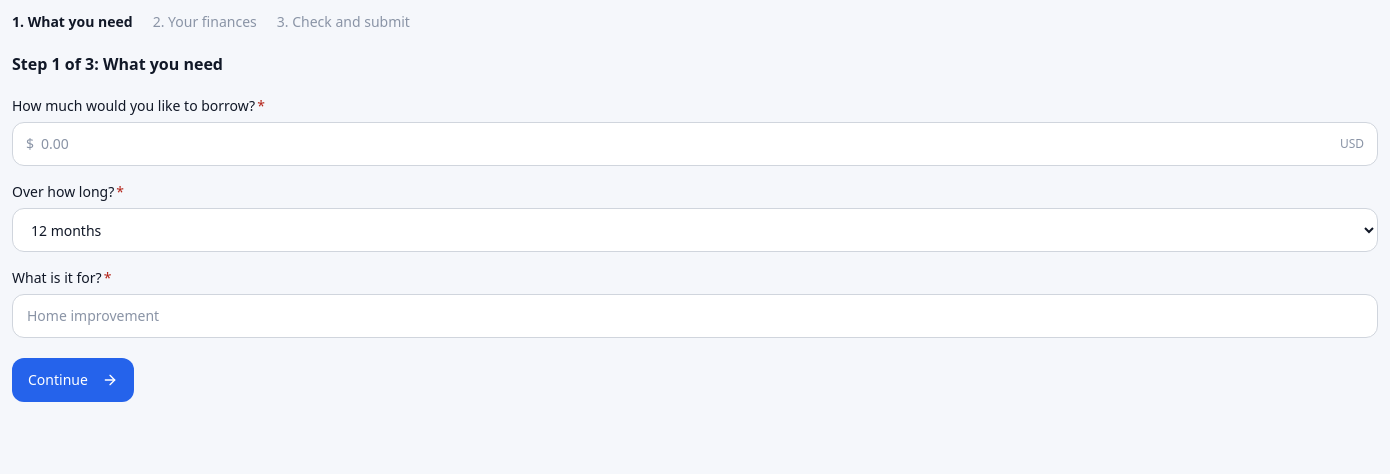
Test: applying in steps › catches a missing answer on its own step and sends nothing
Click the button "Continue" at (73, 380), box [12,358,134,402]
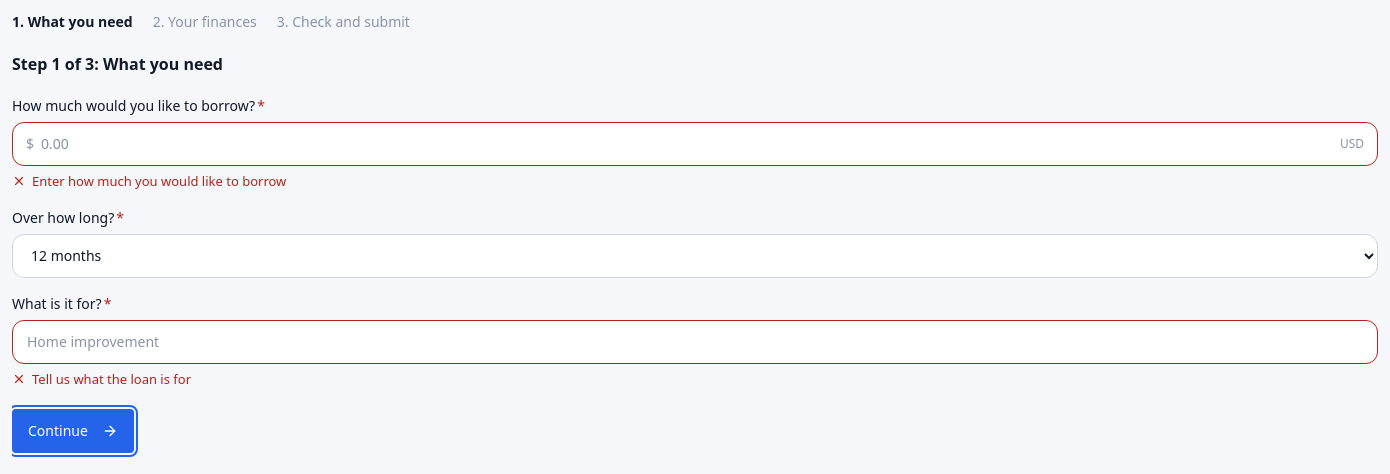
Expected: the heading shows "Step 1 of 3", [12,53,223,75]
Expected: the text "Enter how much you would like to borrow" is shown, [32,172,286,192]
